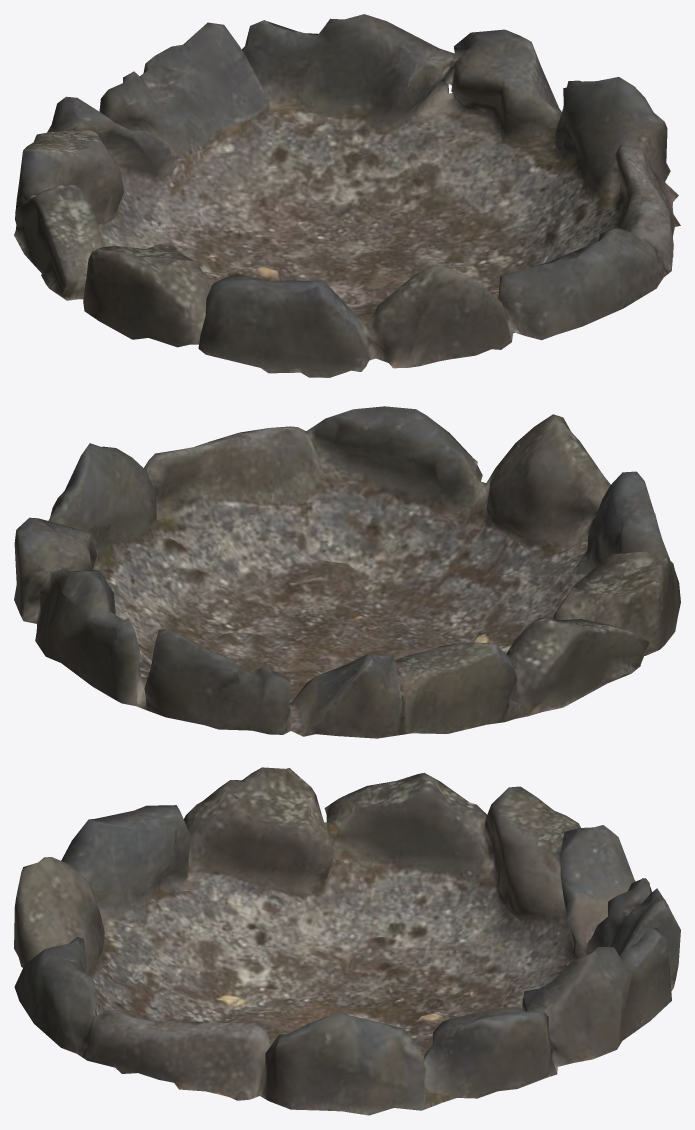
3 views of the same model, one above another, from view 1: azimuth 30°, elevation 25°; view 2: azimuth 150°, elevation 25°; view 3: azimuth 270°, elevation 25° (orthographic).
Visible parts, largest first — view 1: stone_fire_pit_lod1; view 2: stone_fire_pit_lod1; view 3: stone_fire_pit_lod1.
Part boxes in pixels (bbox=[...]): stone_fire_pit_lod1: bbox=[14, 14, 680, 377]; stone_fire_pit_lod1: bbox=[14, 406, 680, 738]; stone_fire_pit_lod1: bbox=[14, 767, 680, 1115].
Bounding box in the file's own units: 1.45 × 0.3883 × 1.43.
1 material, 1 textured.
